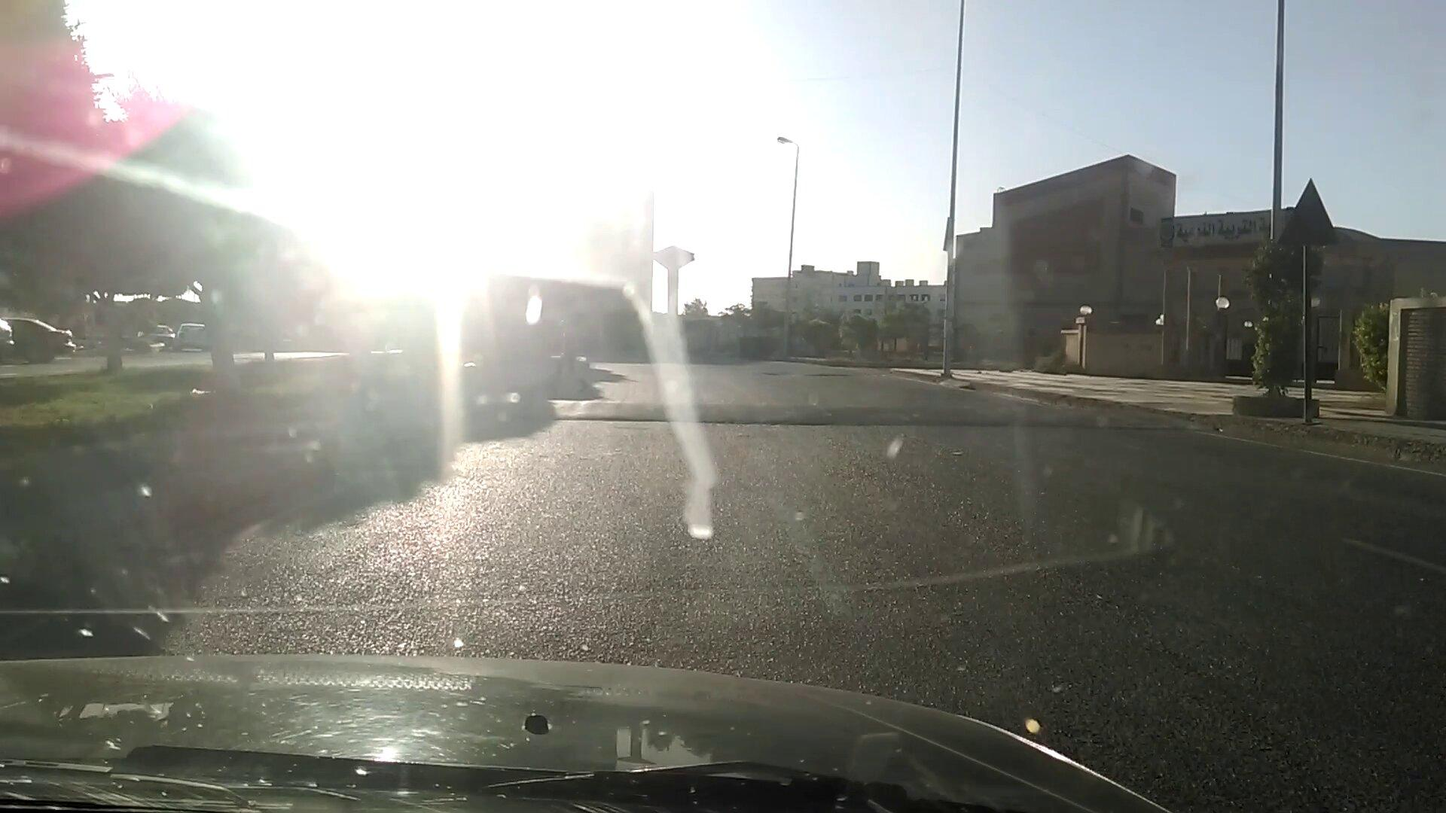Bump: (542, 388, 1173, 442)
